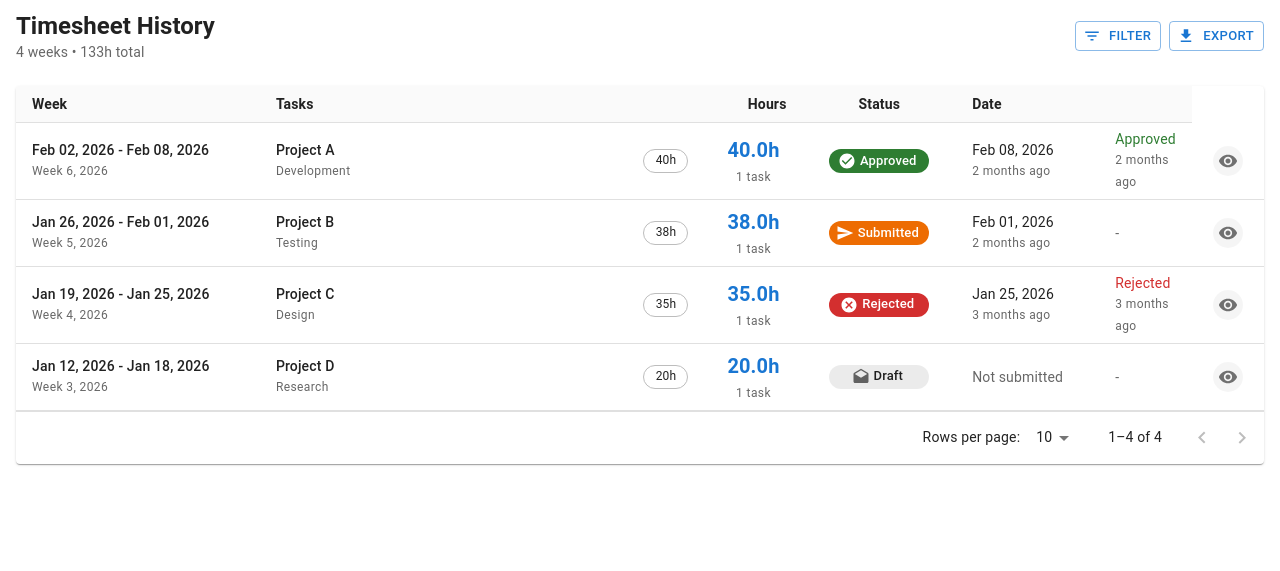
Test: TimesheetHistory › Filter panel › date range filter limits displayed timesheets
The width and height of the screenshot is (1280, 571).
Note: Open filter panel
Click the button with test id "ts-history-filter-toggle". click: (1118, 36)
box: top-left (1075, 21), bottom-right (1161, 51)
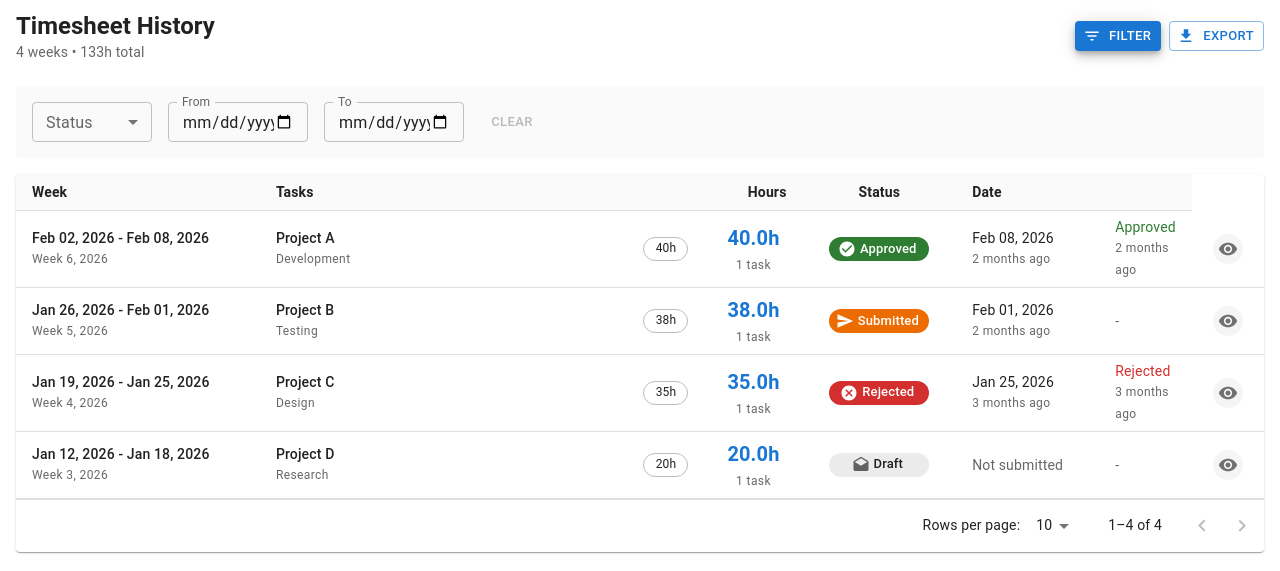
Expected: the date field with test id "ts-history-start-date" is shown
Note: Set start date to Jan 25 — should only include weeks starting Jan 26 and Feb 02
Type "2026-01-25" into the date field with test id "ts-history-start-date". click: (238, 122)
box: top-left (168, 102), bottom-right (308, 142)
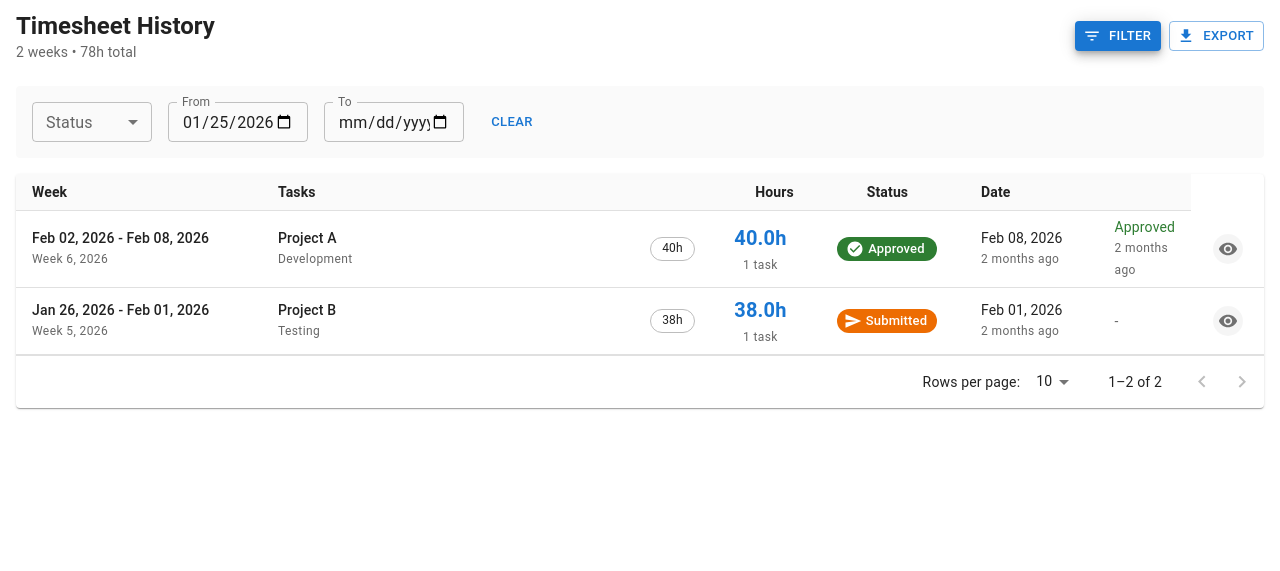
Expected: the text "2 weeks • 78h total" is shown, top-left (16, 44), bottom-right (136, 60)
